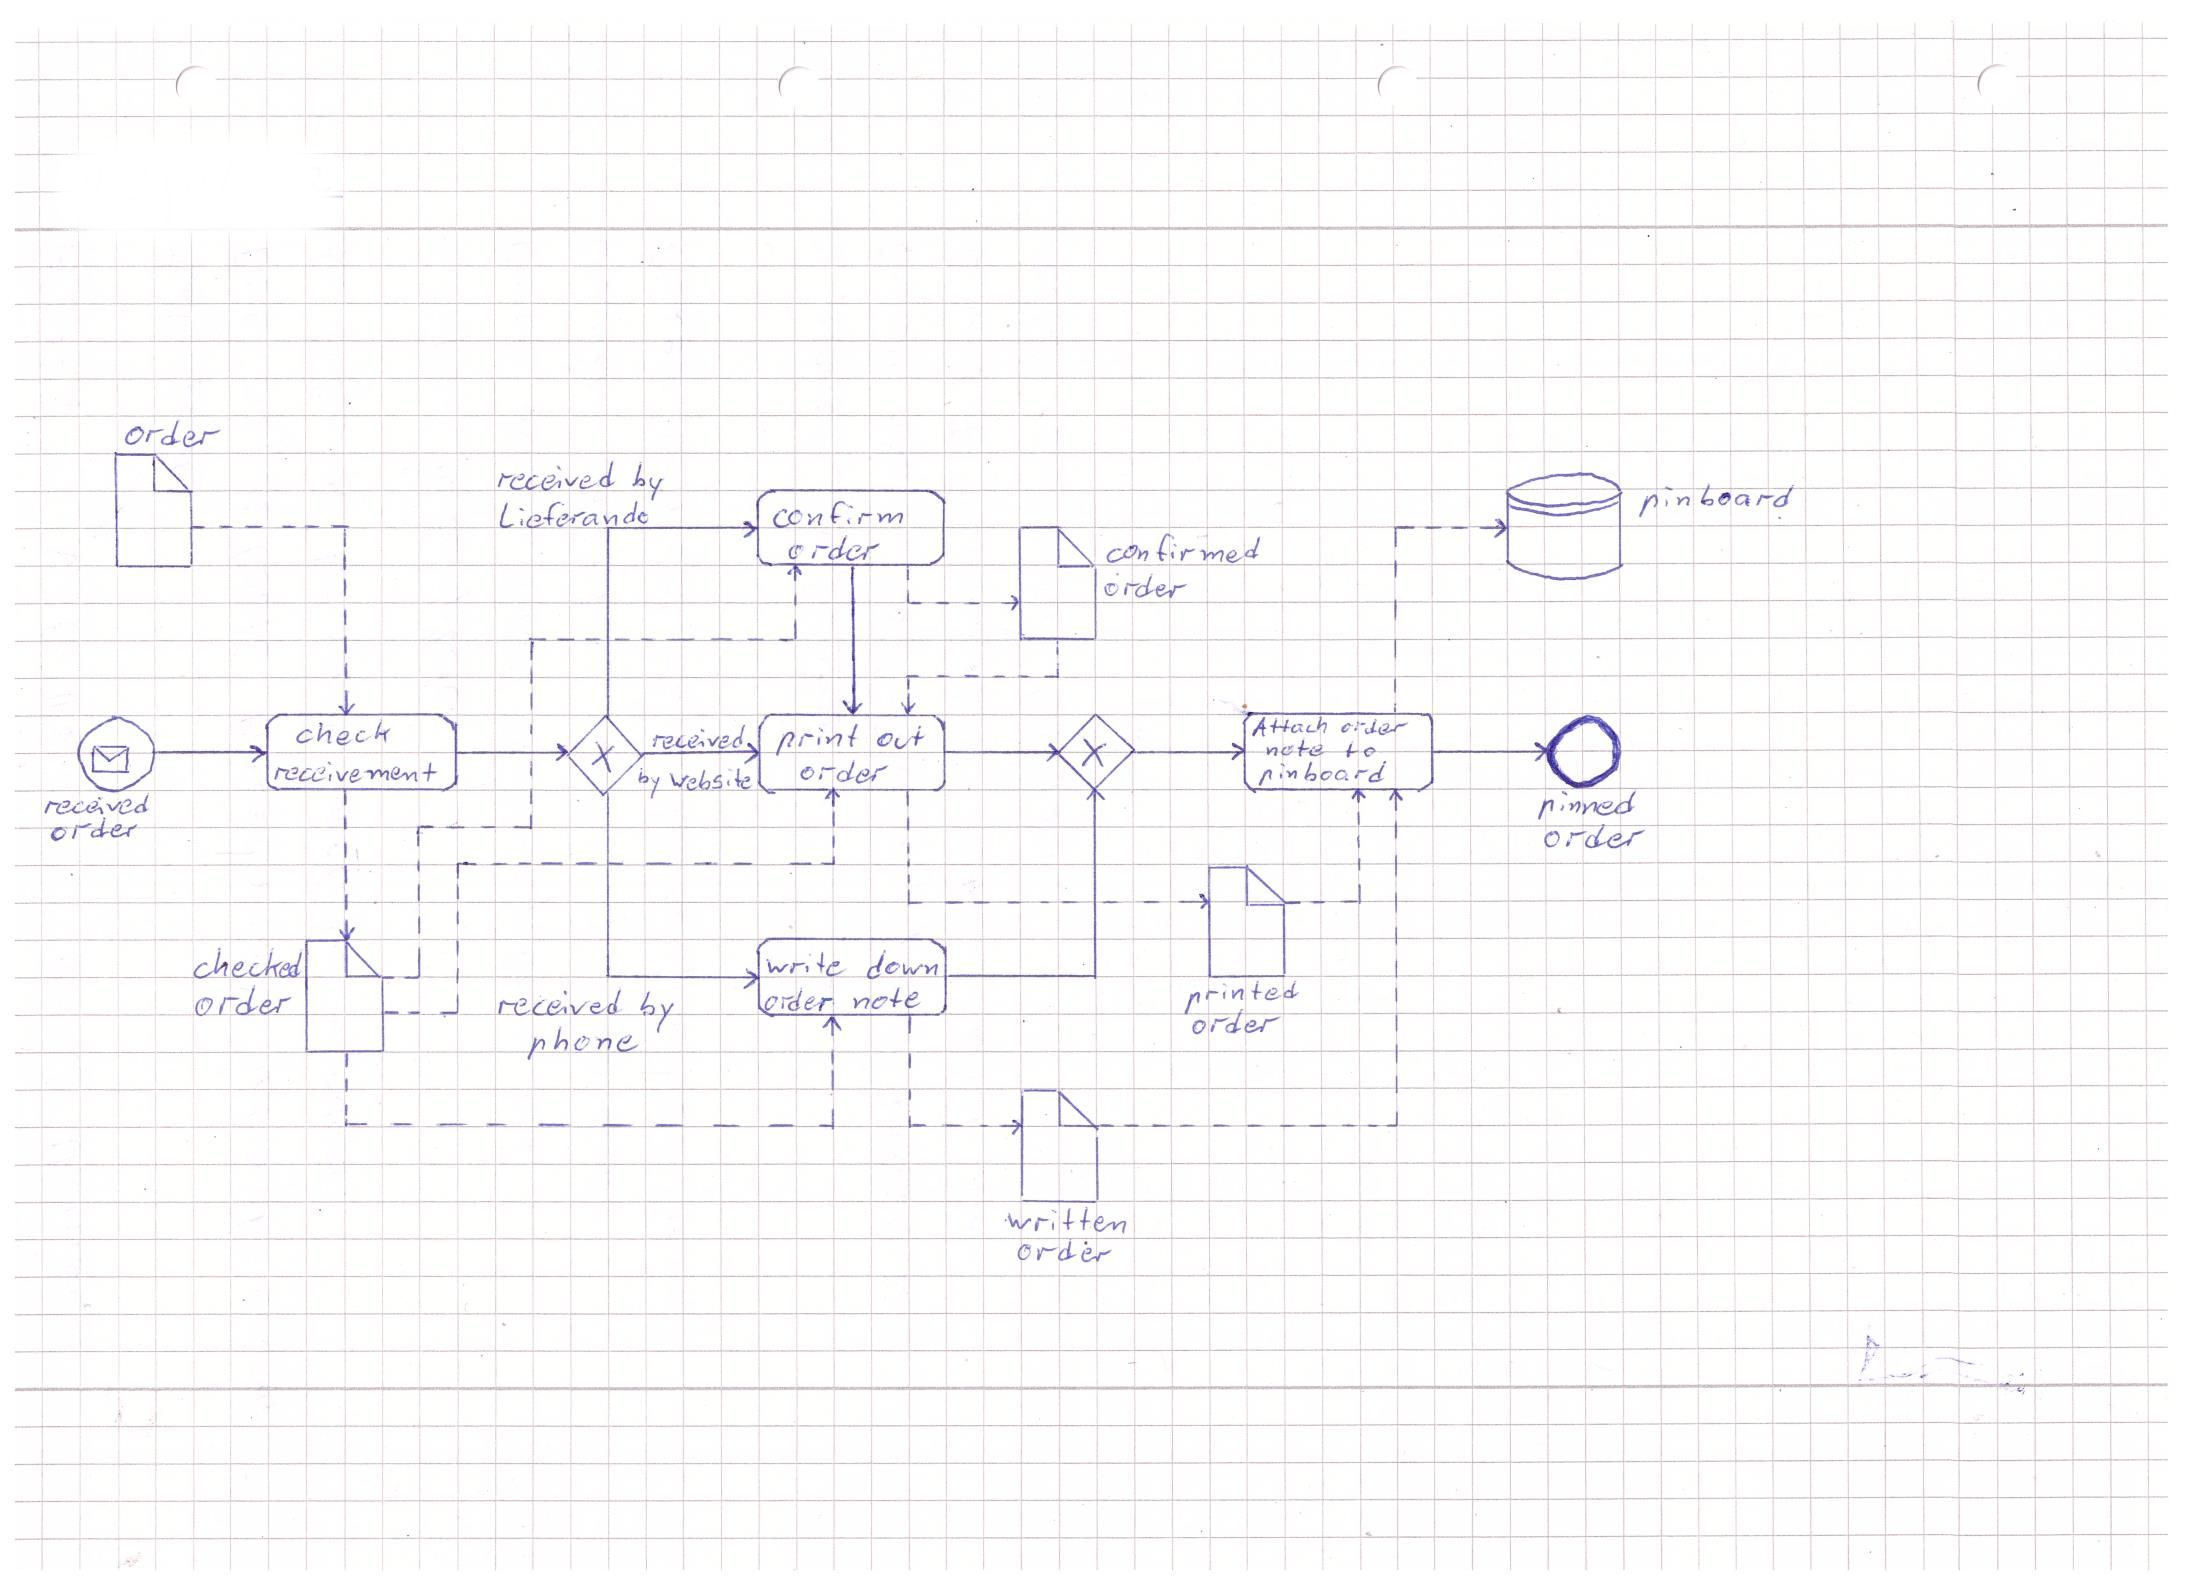Attach: (1249, 714, 1333, 742)
Lieferando: (495, 496, 655, 529)
by: (636, 988, 679, 1035), (631, 460, 665, 502), (634, 767, 663, 798)
check: (293, 721, 395, 747)
checked: (188, 947, 305, 983)
confirm: (768, 497, 909, 531)
confirmed: (1104, 535, 1271, 570)
down: (863, 949, 942, 983)
note: (852, 984, 925, 1013), (1262, 738, 1327, 759)
order: (192, 984, 293, 1020), (1542, 821, 1647, 854), (124, 421, 224, 451), (785, 533, 887, 562), (1101, 570, 1194, 601), (1189, 1008, 1281, 1039), (47, 815, 142, 843), (1013, 1239, 1118, 1264), (762, 984, 838, 1015), (797, 760, 887, 784), (1338, 714, 1410, 736)
out: (874, 726, 930, 750)
phone: (522, 1025, 641, 1059)
pinboard: (1634, 480, 1797, 519), (1255, 760, 1389, 787)
pinned: (1535, 791, 1640, 821)
print: (770, 725, 862, 755)
printed: (1179, 977, 1301, 1017)
received: (494, 986, 624, 1018), (494, 460, 619, 492), (42, 794, 158, 818), (646, 726, 753, 750)
receivement: (270, 760, 438, 784)
to: (1340, 736, 1383, 760)
website: (667, 765, 758, 792)
write: (762, 950, 848, 977)
written: (1003, 1203, 1130, 1234)
